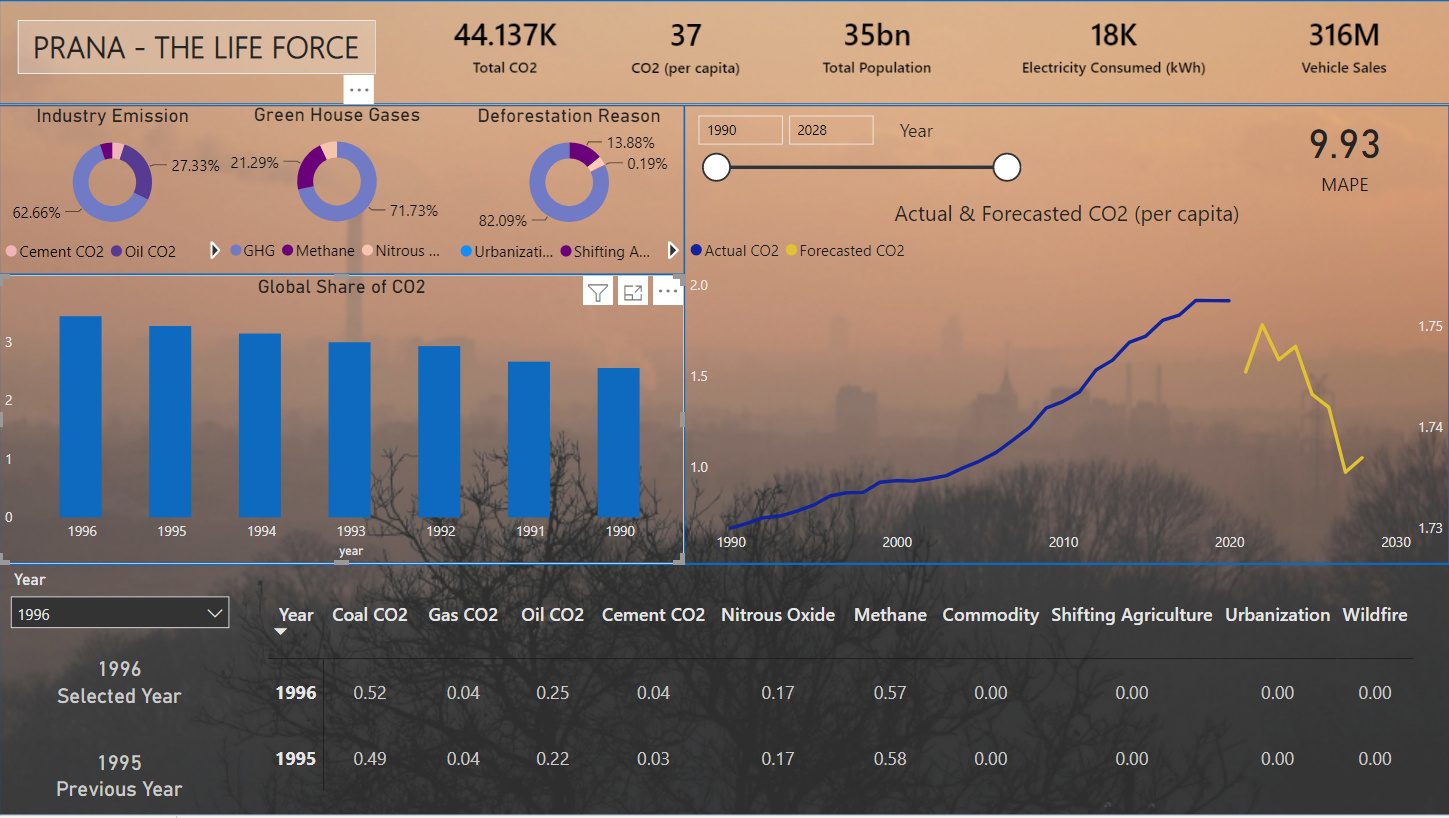

Layout of this report page (visuals, bound fields, positions):
{"tool":"powerbi","page":{"name":"Duplicate of Page 1","canvas":[1280,720],"ordinal":1},"visuals":[{"type":"group","id":"g1","title":"Group 1","box":[0,0,1280,720.6],"z":0},{"type":"shape","box":[0,0,1280,92.4],"z":0,"group":"g1"},{"type":"rotatingTile1859AB39DB23400988ADF752BCB9C967","title":"Cement","fields":{"measureData":["Sum(Imputed.population)"]},"box":[681.8,0,186.5,80.6],"z":1000},{"type":"shape","box":[604.7,92.4,675.3,404.8],"z":1000,"group":"g1"},{"type":"barraceDB8728D9BD7B48618F2369A4ACDC23B6","title":"Global Share of CO2","fields":{"column":["Imputed.year"],"current_values":["Sum(Imputed.share_global_co2)"]},"box":[0,242.3,604.4,254.9],"z":2000},{"type":"shape","box":[0,497.2,1280,223.4],"z":2000,"group":"g1"},{"type":"slicer","fields":{"Values":["Imputed.AllYear"]},"box":[604.2,91,319.3,76.1],"z":3000},{"type":"shape","box":[0,92.4,604.7,149.5],"z":3000,"group":"g1"},{"type":"shape","box":[0,242,605,255],"z":4000,"group":"g1"},{"type":"card","fields":{"Values":["Data.Current year_selected"]},"box":[0,567.9,211.9,45.6],"z":4000},{"type":"rotatingTile1859AB39DB23400988ADF752BCB9C967","title":"Cement","fields":{"measureData":["Sum(Imputed.co2_per_capita)"]},"box":[513.5,1.5,184.3,79],"z":5000},{"type":"rotatingTile1859AB39DB23400988ADF752BCB9C967","title":"Cement","fields":{"measureData":["Sum(Imputed.electric_power_consumption_kWh_per_capita)"]},"box":[833.8,0,299.9,80.5],"z":6000},{"type":"rotatingTile1859AB39DB23400988ADF752BCB9C967","title":"Cement","fields":{"measureData":["Sum(Imputed.vehicle_sales)"]},"box":[1094.2,0,185.8,80.5],"z":7000},{"type":"rotatingTile1859AB39DB23400988ADF752BCB9C967","title":"Cement","fields":{"measureData":["Sum(Imputed.co2)"]},"box":[354.3,0,185.2,80.8],"z":8000},{"type":"lineChart","title":"Actual & Forecasted CO2 (per capita)","fields":{"Category":["Imputed.AllYear"],"Y":["Sum(Imputed.co2_per_capita)"],"Y2":["Sum(Imputed.Forecast_co2_per_capita)"]},"box":[604.4,175.5,675.4,321.7],"z":9000},{"type":"textbox","box":[16.7,18.1,314.7,47.4],"z":10000},{"type":"donutChart","title":"Deforestation Reason","fields":{"Y":["Sum(Imputed.urbanization_per_capita)","Sum(Imputed.shifting_agriculture_per_capita)","Sum(Imputed.commodity_driven_deforestation_per_capita)","Sum(Imputed.wildfire_per_capita)","Sum(Imputed.forestry_per_capita)"]},"box":[401.1,91.9,203.3,149],"z":11000},{"type":"donutChart","title":"Industry Emission","fields":{"Y":["Sum(Imputed.cement_co2_per_capita)","Sum(Imputed.oil_co2_per_capita)","Sum(Imputed.coal_co2_per_capita)","Sum(Imputed.gas_co2_per_capita)"]},"box":[0,91.9,200.5,149],"z":12000},{"type":"pivotTable","fields":{"Rows":["Imputed.year"],"Values":["Sum(Imputed.coal_co2_per_capita)","Sum(Imputed.gas_co2_per_capita)","Sum(Imputed.oil_co2_per_capita)","Sum(Imputed.cement_co2_per_capita)","Sum(Imputed.nitrous_oxide_per_capita)","Sum(Imputed.methane_per_capita)","Sum(Imputed.commodity_driven_deforestation_per_capita)","Sum(Imputed.shifting_agriculture_per_capita)","Sum(Imputed.urbanization_per_capita)","Sum(Imputed.wildfire_per_capita)"]},"box":[232.7,507.2,1033.8,198.4],"z":13000},{"type":"card","fields":{"Values":["Data.Current"]},"box":[0,591.4,211.9,45.6],"z":14000},{"type":"card","fields":{"Values":["Avg(Imputed.Sheet1 (2).Percentage Error)"]},"box":[1093.7,92.2,186.3,83],"z":14500},{"type":"card","fields":{"Values":["Data.Past year"]},"box":[0,673.8,211.9,45.6],"z":15000},{"type":"card","fields":{"Values":["Data.Previous year_selected"]},"box":[0,650.3,211.9,45.6],"z":16000},{"type":"slicer","fields":{"Values":["YearKey.year"]},"box":[0,497.8,213.3,69.3],"z":17000},{"type":"donutChart","title":"Green House Gases","fields":{"Y":["Sum(Imputed.ghg_per_capita)","Sum(Imputed.methane_per_capita)","Sum(Imputed.nitrous_oxide_per_capita)"]},"box":[197.5,90.7,201.9,149.2],"z":18000},{"type":"textbox","box":[789.2,98.5,67.1,31.3],"z":19000}]}

Visuals, with their boxes in screenshot pixels (x1, y1, x2, y2), scaled from the page's 1280x720 canvas onto the 1449x818 screenshot:
"Group 1" group: (0, 0, 1448, 817)
shape: (0, 0, 1448, 105)
"Cement" rotatingTile1859AB39DB23400988ADF752BCB9C967: (772, 0, 983, 92)
shape: (685, 105, 1448, 565)
"Global Share of CO2" barraceDB8728D9BD7B48618F2369A4ACDC23B6: (0, 275, 684, 565)
shape: (0, 565, 1448, 817)
slicer - Imputed.AllYear: (684, 103, 1045, 190)
shape: (0, 105, 685, 275)
shape: (0, 275, 685, 565)
card - Data.Current year_selected: (0, 645, 240, 697)
"Cement" rotatingTile1859AB39DB23400988ADF752BCB9C967: (581, 2, 790, 91)
"Cement" rotatingTile1859AB39DB23400988ADF752BCB9C967: (944, 0, 1283, 91)
"Cement" rotatingTile1859AB39DB23400988ADF752BCB9C967: (1239, 0, 1448, 91)
"Cement" rotatingTile1859AB39DB23400988ADF752BCB9C967: (401, 0, 611, 92)
"Actual & Forecasted CO2 (per capita)" lineChart: (684, 199, 1448, 565)
textbox: (19, 21, 375, 74)
"Deforestation Reason" donutChart: (454, 104, 684, 274)
"Industry Emission" donutChart: (0, 104, 227, 274)
pivotTable - Imputed.year x Sum(Imputed.coal_co2_per_capita): (263, 576, 1434, 802)
card - Data.Current: (0, 672, 240, 724)
card - Avg(Imputed.Sheet1 (2).Percentage Error): (1238, 105, 1448, 199)
card - Data.Past year: (0, 766, 240, 817)
card - Data.Previous year_selected: (0, 739, 240, 791)
slicer - YearKey.year: (0, 566, 241, 644)
"Green House Gases" donutChart: (224, 103, 452, 273)
textbox: (893, 112, 969, 147)
